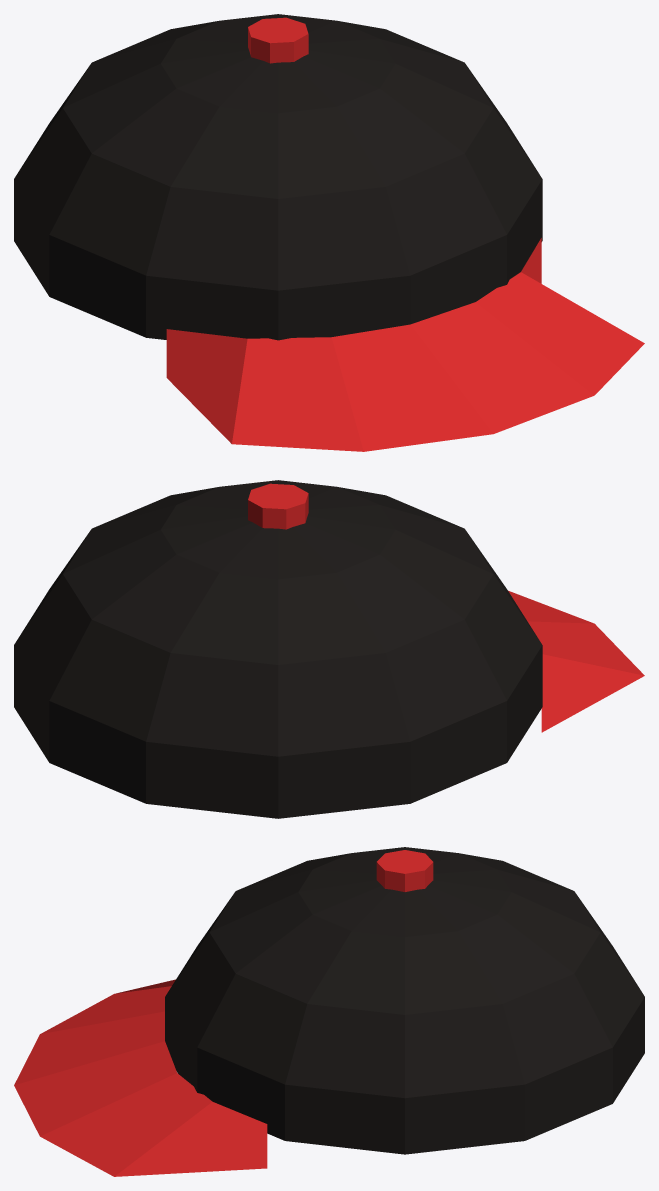
The model's file is hat_05_snapback_black_red.glb.
3 renders of one model, top to bottom at view 1: azimuth 30°, elevation 25°; view 2: azimuth 150°, elevation 25°; view 3: azimuth 270°, elevation 25°, orthographic. The views are drawn at different scales.
Parts seen in each view (by area): view 1: Hat05_Crown, Hat05_Visor, Hat05_Button; view 2: Hat05_Crown, Hat05_Visor, Hat05_Button; view 3: Hat05_Crown, Hat05_Visor, Hat05_Button.
Boxes of the visible parts, left/top/right/bottom form: Hat05_Crown: left=14, top=14, right=542, bottom=340; Hat05_Visor: left=166, top=238, right=644, bottom=451; Hat05_Button: left=248, top=17, right=308, bottom=63; Hat05_Crown: left=14, top=480, right=542, bottom=818; Hat05_Visor: left=508, top=590, right=644, bottom=732; Hat05_Button: left=248, top=483, right=308, bottom=529; Hat05_Crown: left=165, top=847, right=644, bottom=1154; Hat05_Visor: left=14, top=979, right=267, bottom=1176; Hat05_Button: left=376, top=850, right=433, bottom=891.
Size of the model in its own units: 0.54 by 0.2775 by 0.71.
